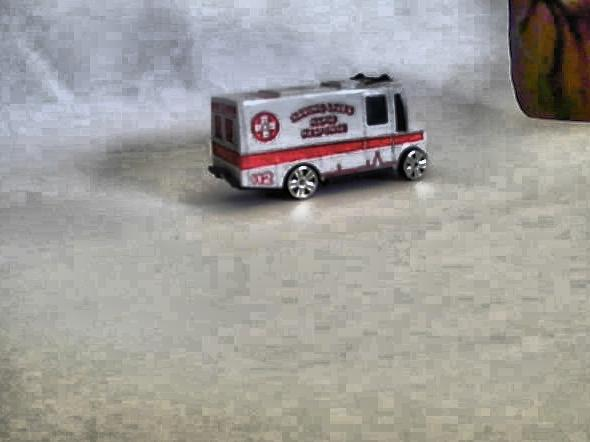ambulance: (208, 72, 427, 200)
